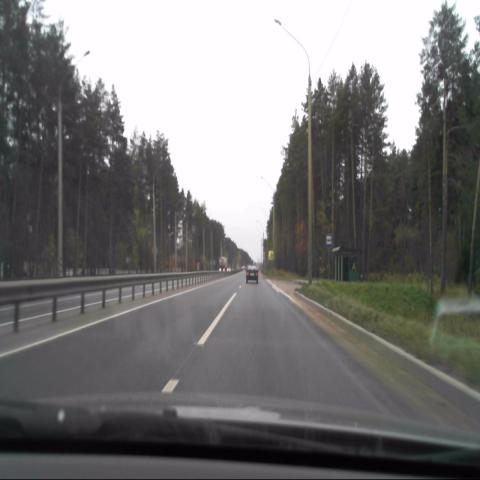5_16: (326, 230, 333, 249)
